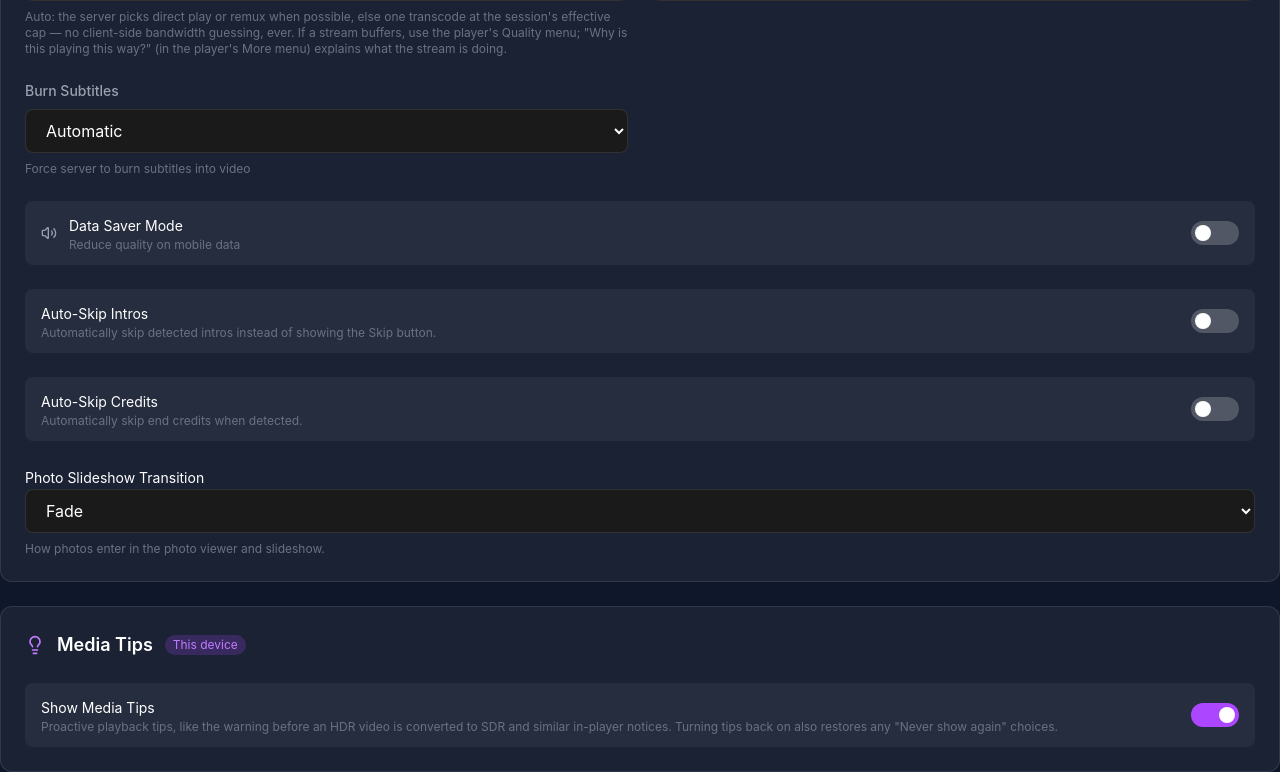
ClientSettings — Media Tips (QS-WI-011) › "Keep tips on" cancels: tips stay enabled
(page scrolled)
Click the switch named "show media tips".
click(1215, 715)  # box [1191,703,1239,727]
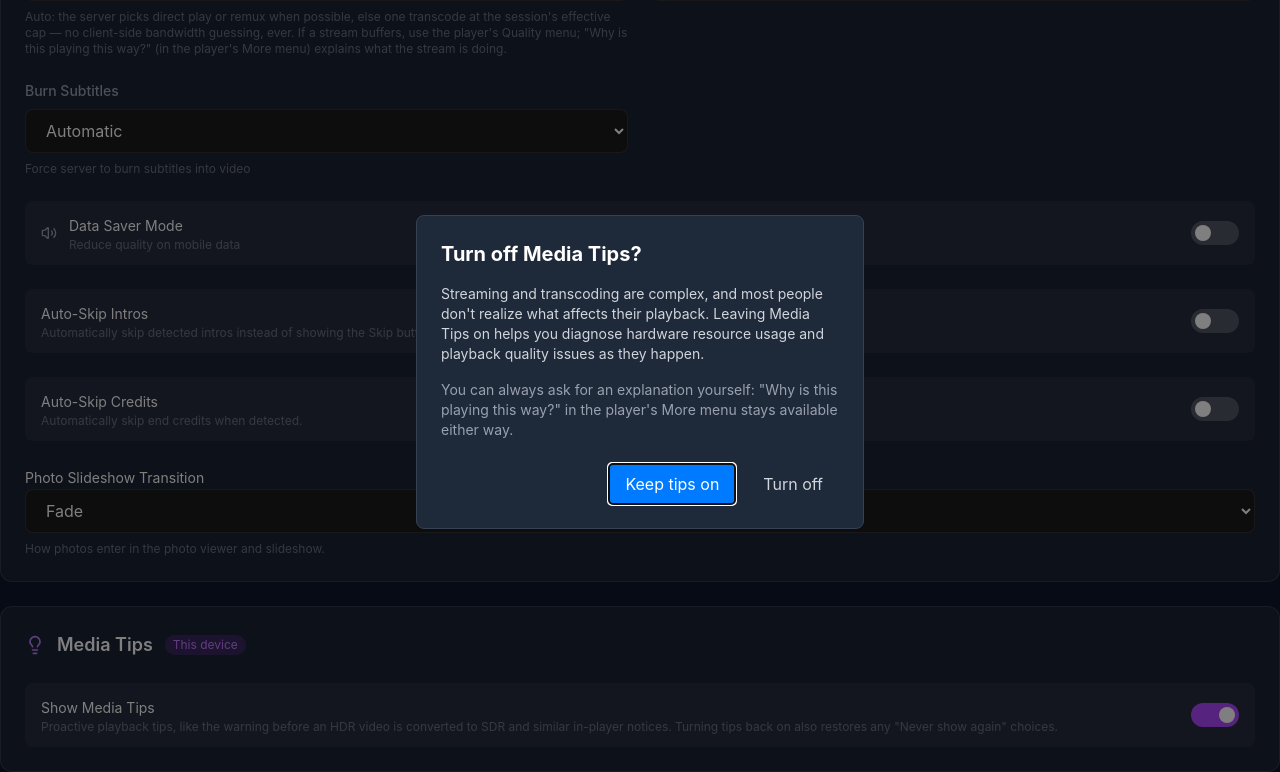
Click the button "Keep tips on".
click(672, 484)  # box [609,464,735,504]
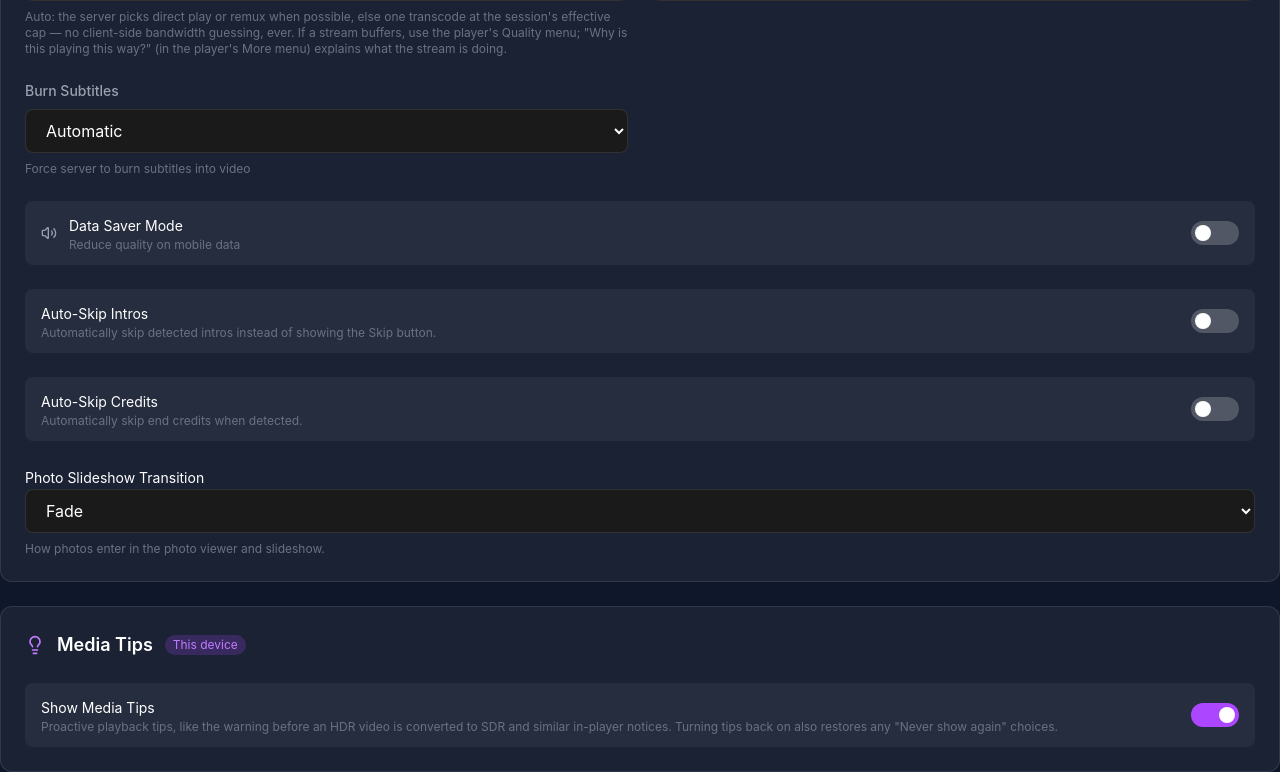
Expected: the dialog is gone
